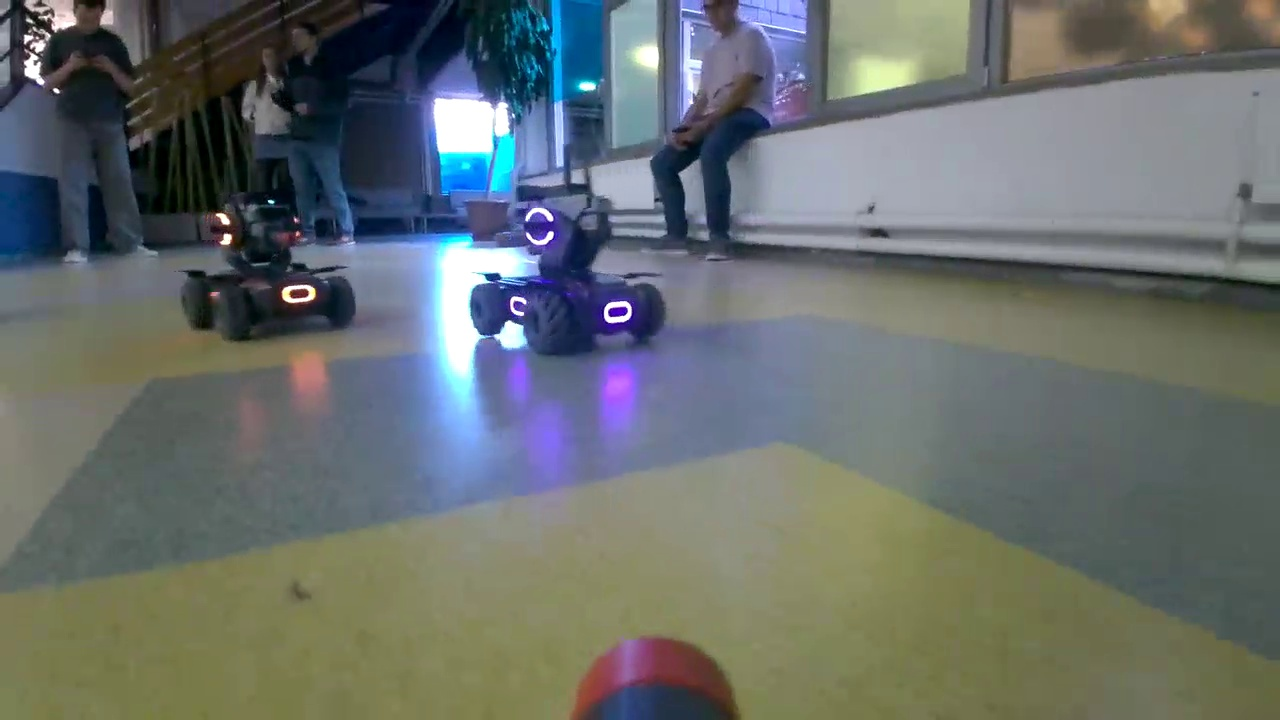robot: (468, 196, 664, 348), (180, 198, 348, 338)
